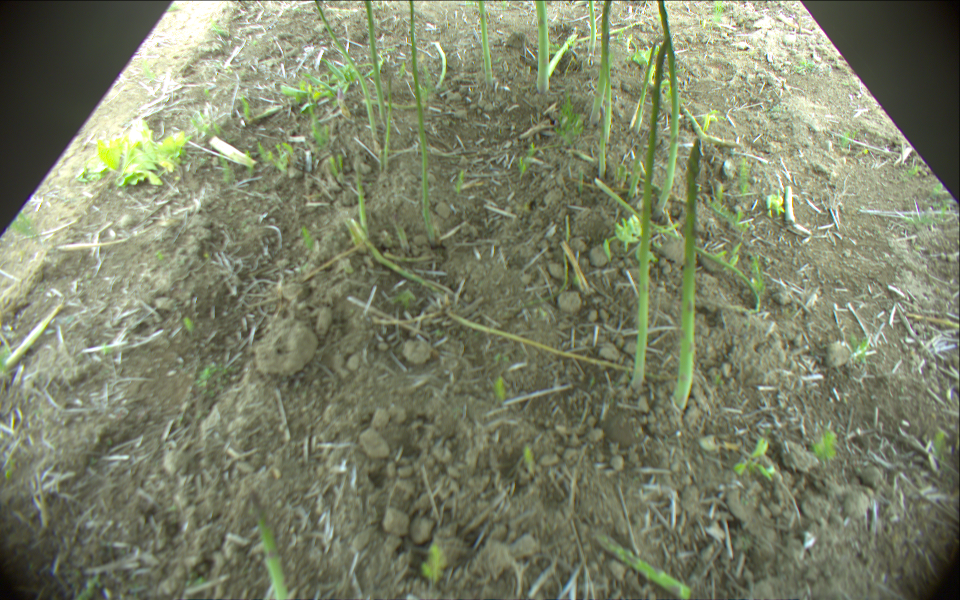aspa: (594, 179, 760, 314), (451, 308, 671, 382), (631, 42, 667, 384), (314, 1, 381, 153), (350, 219, 455, 297), (675, 138, 704, 409), (407, 1, 439, 242), (589, 524, 687, 600), (1, 301, 63, 376), (657, 1, 678, 221), (250, 489, 291, 600), (682, 103, 741, 147), (591, 1, 611, 122), (364, 1, 384, 118), (636, 43, 657, 130), (475, 1, 494, 88), (548, 27, 578, 77), (573, 21, 646, 41), (534, 1, 549, 94), (601, 31, 613, 143), (628, 131, 648, 197), (357, 159, 370, 240), (355, 98, 428, 109), (433, 40, 447, 89), (390, 218, 409, 253), (597, 105, 606, 176), (783, 183, 795, 226), (588, 1, 596, 52)
